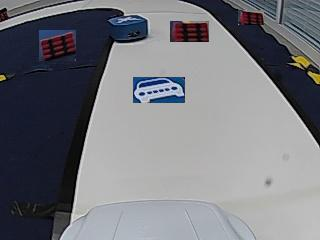prop: (109, 15, 149, 43)
